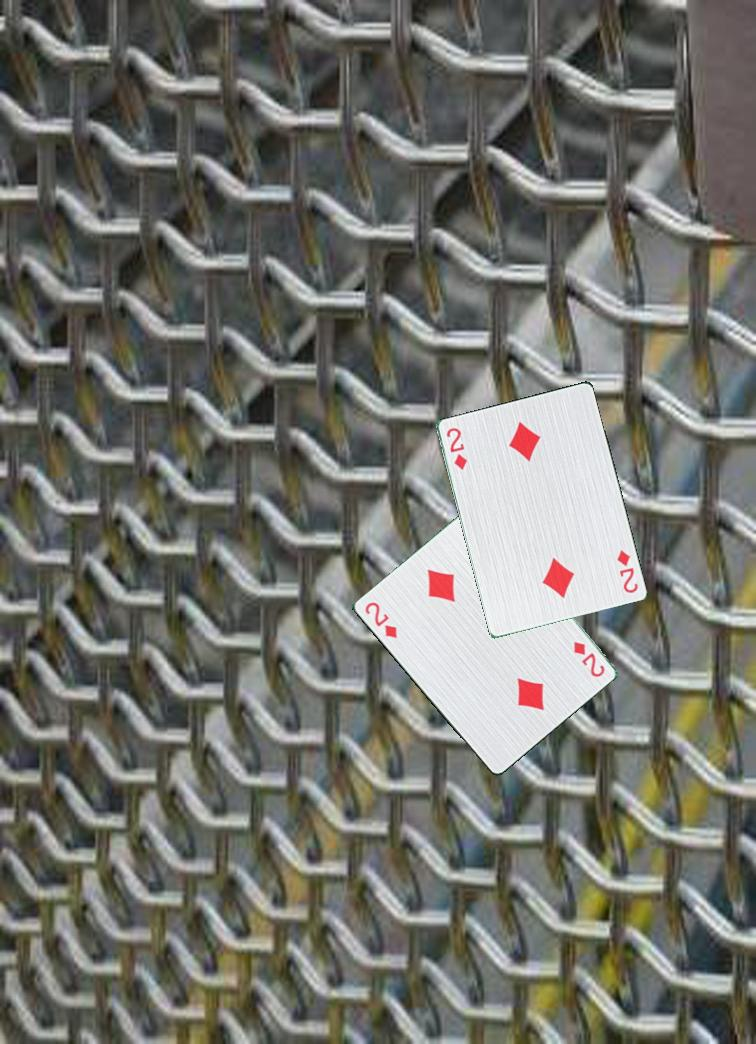2d: (570, 638, 613, 686), (362, 598, 401, 641), (441, 418, 470, 473), (613, 546, 641, 596)
